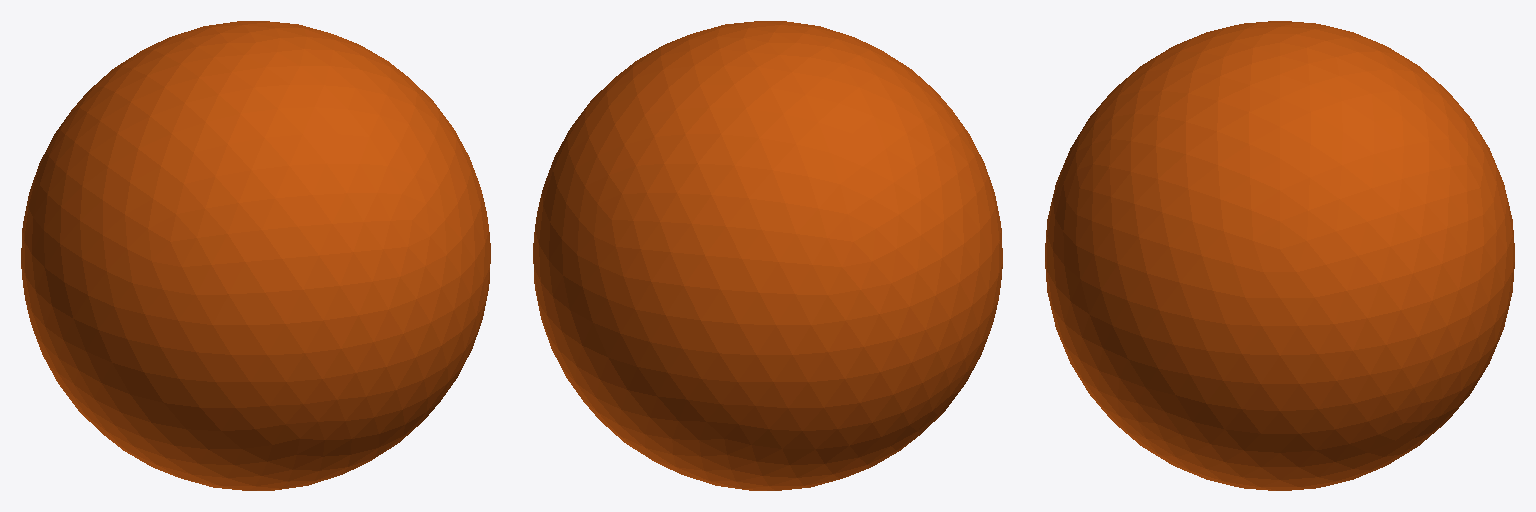
Rendered from ball2.obj.
3 renders of one model, left to right at view 1: azimuth 30°, elevation 25°; view 2: azimuth 150°, elevation 25°; view 3: azimuth 270°, elevation 25°, orthographic.
Parts seen in each view (by area): view 1: Icosphere.002; view 2: Icosphere.002; view 3: Icosphere.002.
Part boxes in pixels (bbox=[...]): Icosphere.002: bbox=[21, 21, 490, 490]; Icosphere.002: bbox=[533, 21, 1002, 490]; Icosphere.002: bbox=[1045, 21, 1514, 490].
Bounding box in the file's own units: 2 × 2 × 2.